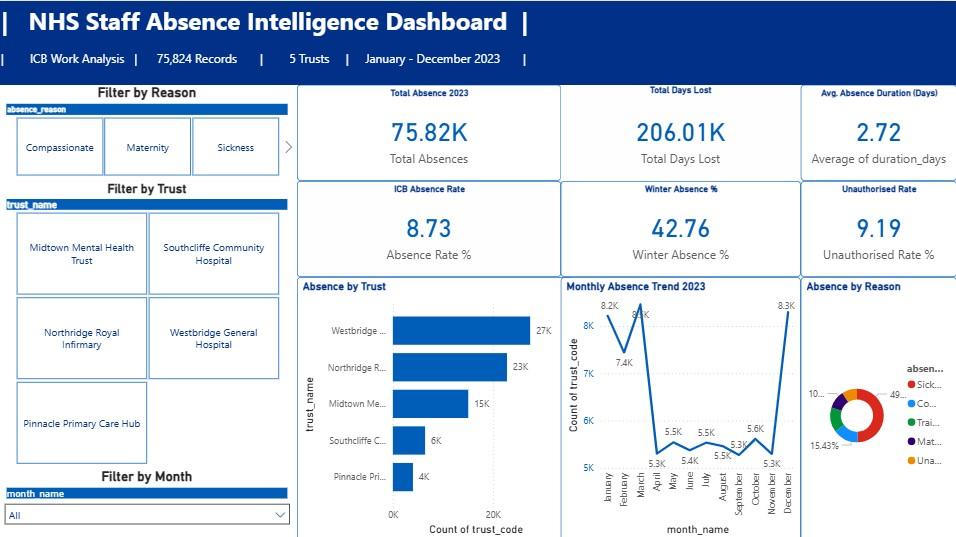

The dashboard page shown, as its layout file describes it:
{"tool":"powerbi","page":{"name":"Page 1","canvas":[1280,720],"ordinal":0},"visuals":[{"type":"card","title":"Total Absence 2023","fields":{"Values":["_Measures.Total Absences"]},"box":[400,112,352,128],"z":0},{"type":"card","title":"Total Days Lost","fields":{"Values":["_Measures.Total Days Lost"]},"box":[752,112,320,128],"z":1000},{"type":"card","title":"Avg.  Absence Duration (Days)","fields":{"Values":["Avg(nhs_staff_absence.duration_days)"]},"box":[1072,112,208,128],"z":2000},{"type":"clusteredBarChart","title":"Absence by Trust","fields":{"Category":["nhs_staff_absence.trust_name"],"Y":["CountNonNull(nhs_staff_absence.trust_code)"]},"box":[400,368,368,352],"z":3000},{"type":"lineChart","title":"Monthly Absence Trend 2023","fields":{"Y":["CountNonNull(nhs_staff_absence.trust_code)"],"Category":["nhs_staff_absence.month_name"]},"box":[752,368,320,352],"z":4000},{"type":"donutChart","title":"Absence by Reason","fields":{"Category":["nhs_staff_absence.absence_reason"],"Y":["CountNonNull(nhs_staff_absence.trust_code)"]},"box":[1072,368,208,352],"z":5000},{"type":"slicer","title":"Filter by Trust","fields":{"Values":["nhs_staff_absence.trust_name"]},"box":[0,240,400,384],"z":6000},{"type":"slicer","title":"Filter by Reason","fields":{"Values":["nhs_staff_absence.absence_reason"]},"box":[0,112,400,128],"z":7000},{"type":"slicer","title":"Filter by Month","fields":{"Values":["nhs_staff_absence.month_name"]},"box":[0,624,400,96],"z":8000},{"type":"card","title":"ICB Absence Rate","fields":{"Values":["_Measures.Absence Rate %"]},"box":[400,240,352,128],"z":9000},{"type":"card","title":"Winter Absence %","fields":{"Values":["_Measures.Winter Absence %"]},"box":[752,240,320,128],"z":10000},{"type":"card","title":"Unauthorised Rate","fields":{"Values":["_Measures.Unauthorised Rate %"]},"box":[1072,240,208,128],"z":11000},{"type":"textbox","box":[0,0,1280,112],"z":12000}]}

Visuals, with their boxes in screenshot pixels (x1, y1, x2, y2), scaled from the page's 1280x720 canvas onto the 956x537 screenshot:
"Total Absence 2023" card: (left=299, top=84, right=562, bottom=179)
"Total Days Lost" card: (left=562, top=84, right=801, bottom=179)
"Avg.  Absence Duration (Days)" card: (left=801, top=84, right=955, bottom=179)
"Absence by Trust" clusteredBarChart: (left=299, top=274, right=574, bottom=536)
"Monthly Absence Trend 2023" lineChart: (left=562, top=274, right=801, bottom=536)
"Absence by Reason" donutChart: (left=801, top=274, right=955, bottom=536)
"Filter by Trust" slicer: (left=0, top=179, right=299, bottom=465)
"Filter by Reason" slicer: (left=0, top=84, right=299, bottom=179)
"Filter by Month" slicer: (left=0, top=465, right=299, bottom=536)
"ICB Absence Rate" card: (left=299, top=179, right=562, bottom=274)
"Winter Absence %" card: (left=562, top=179, right=801, bottom=274)
"Unauthorised Rate" card: (left=801, top=179, right=955, bottom=274)
textbox: (left=0, top=0, right=955, bottom=84)
